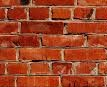brick: (20, 21, 64, 34), (18, 47, 62, 60), (64, 48, 107, 61), (39, 35, 85, 46), (16, 76, 60, 87), (65, 22, 107, 33), (61, 76, 107, 86), (1, 35, 39, 46), (86, 34, 107, 48), (51, 62, 73, 74), (7, 7, 28, 19), (29, 7, 50, 19), (7, 62, 28, 74), (52, 7, 71, 20), (73, 7, 93, 19), (1, 47, 18, 61), (75, 62, 96, 73), (1, 22, 20, 34), (29, 62, 49, 73), (32, 1, 76, 6), (95, 6, 107, 19), (1, 1, 32, 6), (1, 76, 16, 86), (76, 1, 107, 5), (99, 63, 107, 76), (1, 8, 8, 19), (1, 63, 7, 73)
